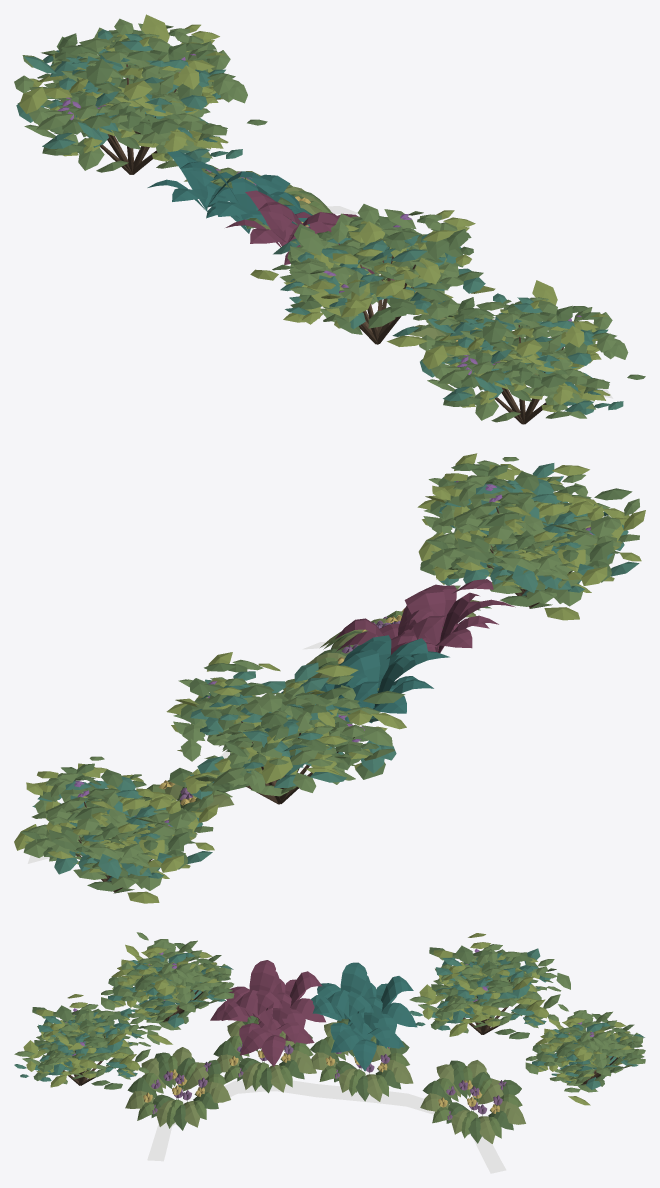
Rendered from west_garden_fixed.glb.
The picture shows the model from 3 angles, top to bottom: view 1: azimuth 30°, elevation 25°; view 2: azimuth 150°, elevation 25°; view 3: azimuth 270°, elevation 25°; orthographic projection. The views are drawn at different scales.
Parts seen in each view (by area): view 1: Low_Shrub_A, Low_Shrub_B2, Low_Shrub_A2, compact_broadleaf_mound, compact_broadleaf_mound2, Low_Shrub_B, flower_groundcover_mat, flower_groundcover_mat2; view 2: Low_Shrub_A, Low_Shrub_B2, Low_Shrub_B, compact_broadleaf_mound2, compact_broadleaf_mound, Low_Shrub_A2, flower_groundcover_mat, flower_groundcover_mat2, flower_groundcover_mat4; view 3: Low_Shrub_A, Low_Shrub_A2, Low_Shrub_B2, Low_Shrub_B, compact_broadleaf_mound, compact_broadleaf_mound2, flower_groundcover_mat, flower_groundcover_mat2, flower_groundcover_mat3, flower_groundcover_mat4.
Boxes of the visible parts, x1=… form: Low_Shrub_A: x1=14, y1=14, x2=267, y2=174; Low_Shrub_B2: x1=250, y1=204, x2=495, y2=346; Low_Shrub_A2: x1=419, y1=280, x2=645, y2=424; compact_broadleaf_mound: x1=147, y1=151, x2=312, y2=233; compact_broadleaf_mound2: x1=225, y1=190, x2=394, y2=280; Low_Shrub_B: x1=30, y1=18, x2=222, y2=147; flower_groundcover_mat: x1=184, y1=164, x2=332, y2=214; flower_groundcover_mat2: x1=408, y1=310, x2=539, y2=387; Low_Shrub_A: x1=166, y1=652, x2=406, y2=807; Low_Shrub_B2: x1=418, y1=457, x2=645, y2=620; Low_Shrub_B: x1=14, y1=756, x2=218, y2=903; compact_broadleaf_mound2: x1=335, y1=579, x2=515, y2=654; compact_broadleaf_mound: x1=281, y1=635, x2=449, y2=723; Low_Shrub_A2: x1=417, y1=453, x2=632, y2=589; flower_groundcover_mat: x1=135, y1=780, x2=245, y2=816; flower_groundcover_mat2: x1=320, y1=600, x2=491, y2=649; flower_groundcover_mat4: x1=306, y1=627, x2=443, y2=680; Low_Shrub_A: x1=409, y1=933, x2=570, y2=1039; Low_Shrub_A2: x1=14, y1=994, x2=159, y2=1089; Low_Shrub_B2: x1=101, y1=932, x2=234, y2=1044; Low_Shrub_B: x1=525, y1=1004, x2=645, y2=1105; compact_broadleaf_mound: x1=310, y1=962, x2=417, y2=1071; compact_broadleaf_mound2: x1=210, y1=960, x2=325, y2=1066; flower_groundcover_mat: x1=420, y1=1060, x2=525, y2=1143; flower_groundcover_mat2: x1=125, y1=1047, x2=230, y2=1130; flower_groundcover_mat3: x1=310, y1=1018, x2=413, y2=1101; flower_groundcover_mat4: x1=213, y1=1015, x2=316, y2=1093.
Bounding box in the file's own units: 2.43 × 1.57 × 5.89.
